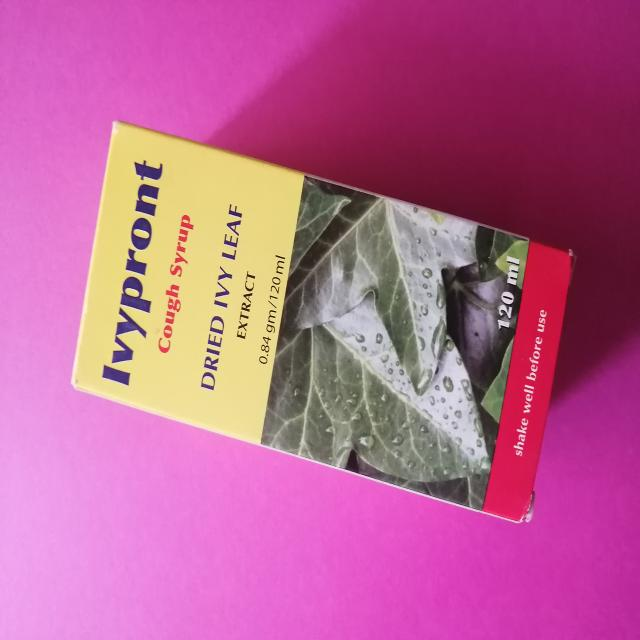Medicine: (65, 118, 577, 524)
